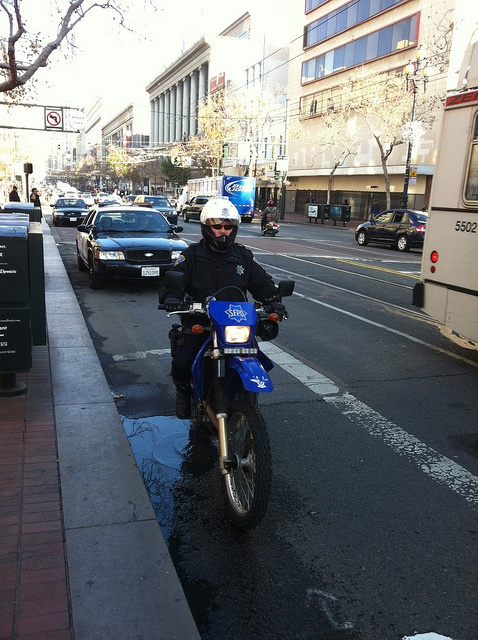non-vehicle: (156, 277, 295, 530), (255, 209, 277, 236)
